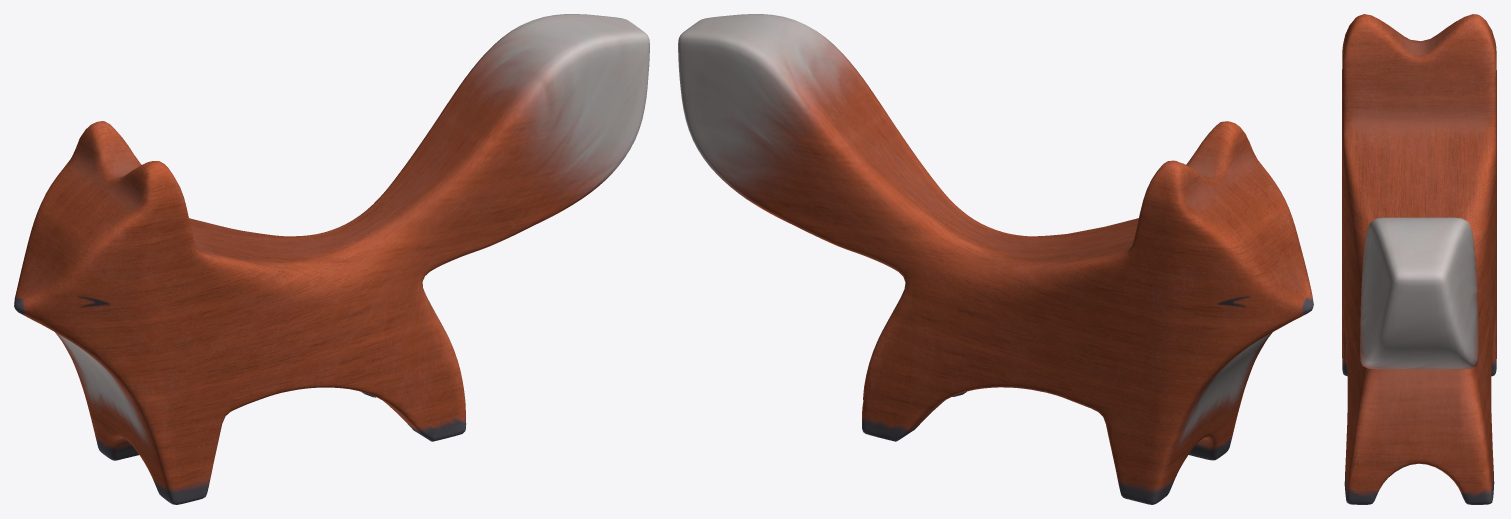
Rendered from holzfuchs.glb.
The picture shows the model from 3 angles, left to right: view 1: azimuth 30°, elevation 25°; view 2: azimuth 150°, elevation 25°; view 3: azimuth 270°, elevation 25°; orthographic projection.
Visible parts, largest first — view 1: Object_2; view 2: Object_2; view 3: Object_2.
Boxes of the visible parts, x1,y1,x2,y2 form: Object_2: (14, 14, 649, 504); Object_2: (678, 14, 1313, 504); Object_2: (1342, 14, 1496, 504).
Size of the model in its own units: 20.04 by 10.62 by 4.27.
1 material, 1 textured.
